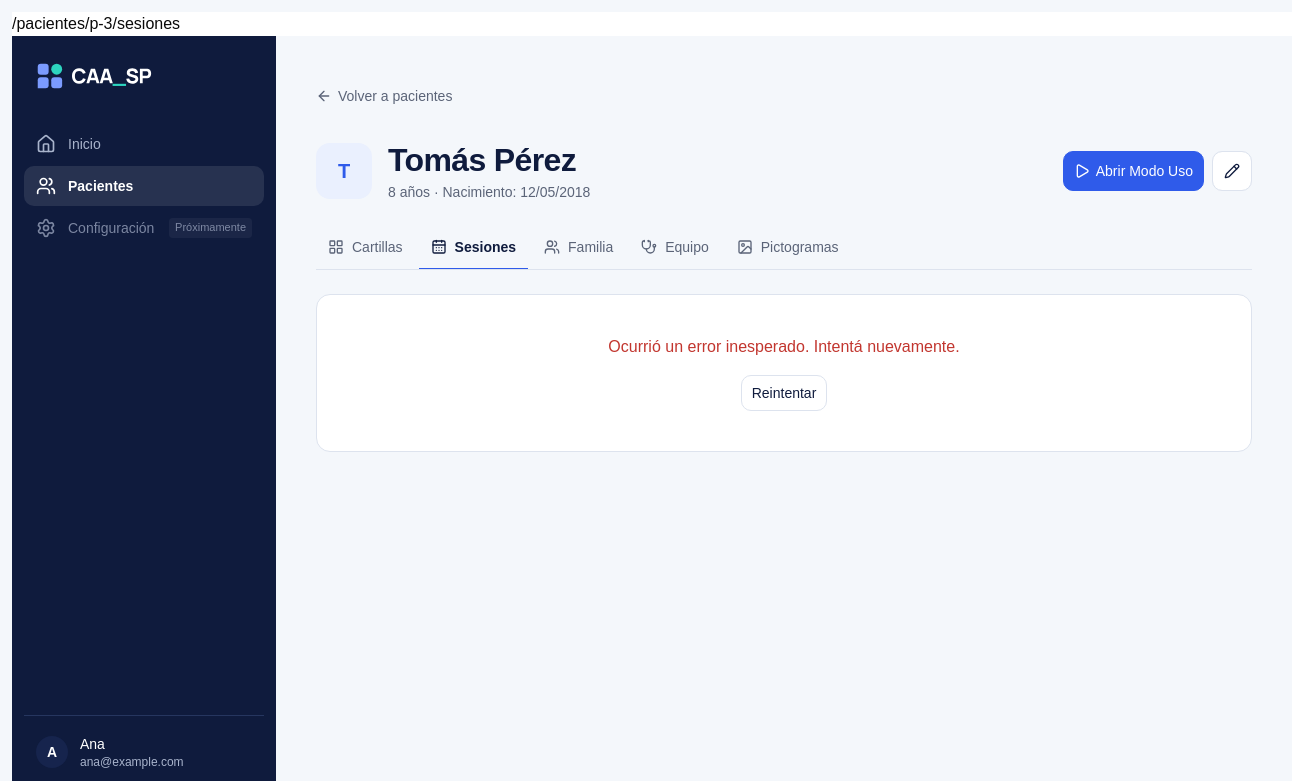
SessionsListPage › shows a read error with retry
This screenshot has width=1292, height=781.
Expected: the message shows "Ocurrió un error inesperado.", top-left (608, 338), bottom-right (960, 355)
Click the button "Reintentar" at (784, 393), box top-left (741, 375), bottom-right (827, 411)
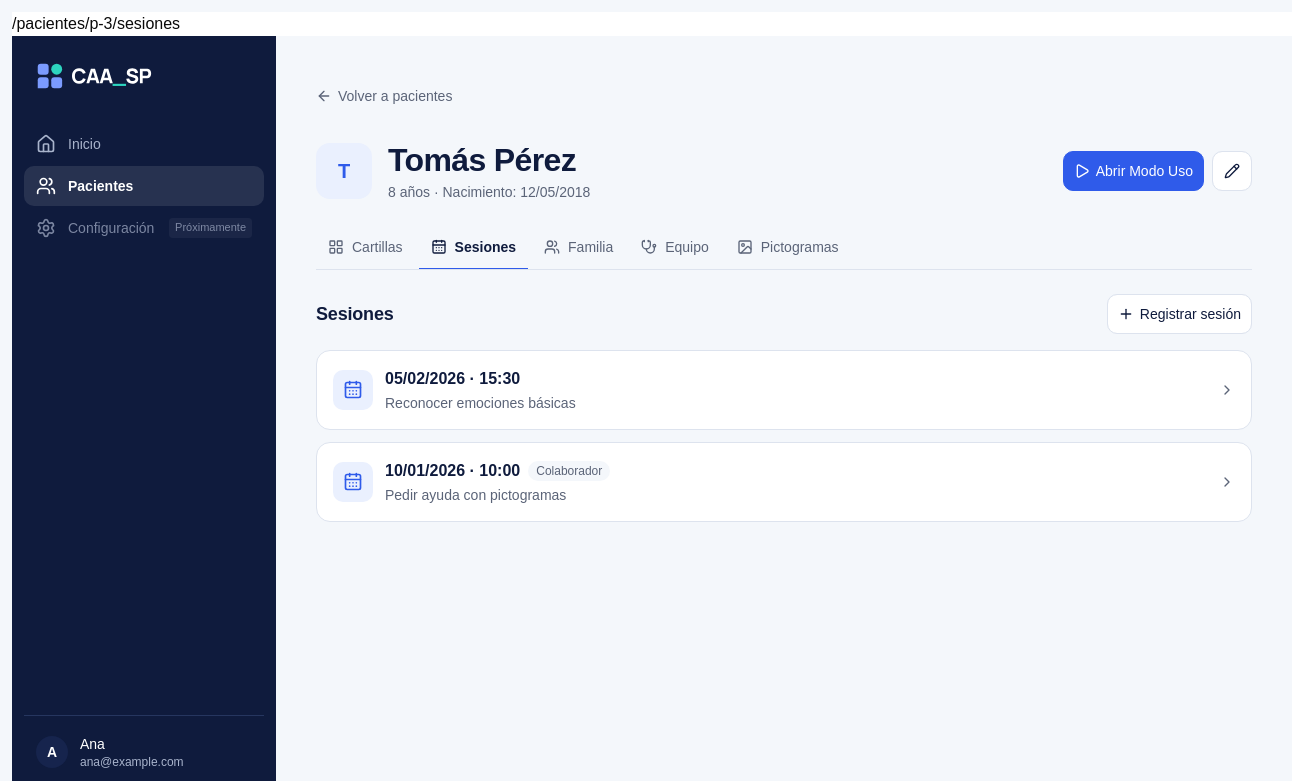
Result: the number of list items is 2 at top-left (316, 350), bottom-right (1252, 430); top-left (316, 442), bottom-right (1252, 522)
